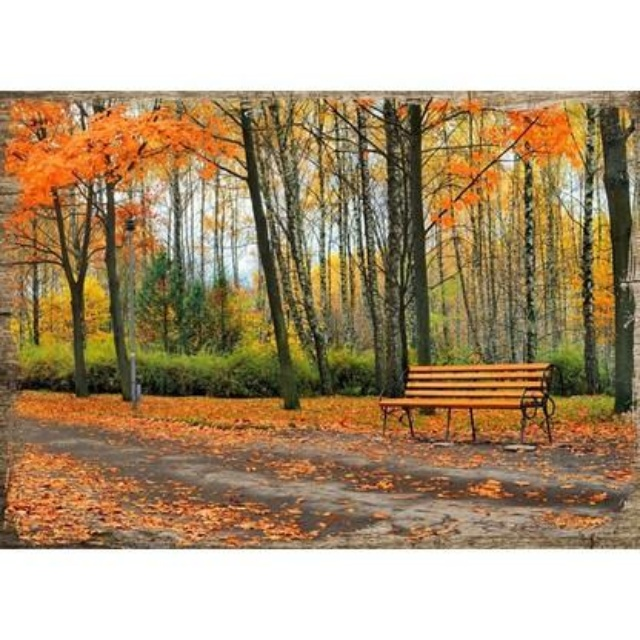obstacle: (378, 358, 566, 457)
